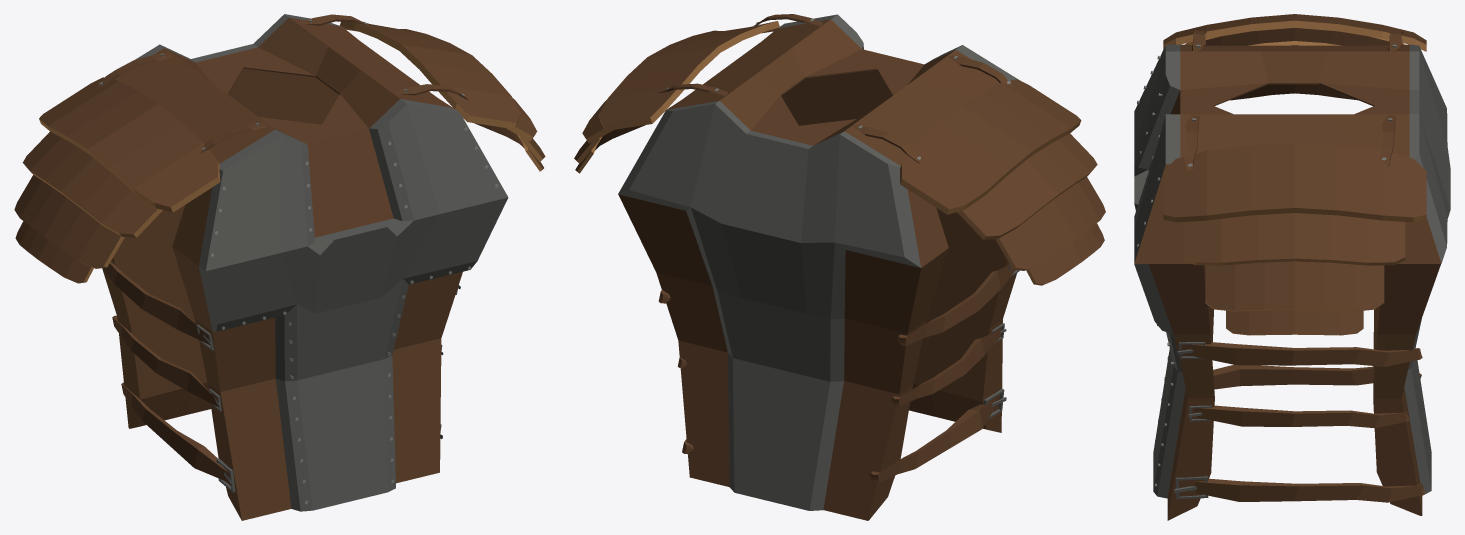
The model's file is peto de cuero.fbx.
The picture shows the model from 3 angles, left to right: view 1: azimuth 30°, elevation 25°; view 2: azimuth 150°, elevation 25°; view 3: azimuth 270°, elevation 25°; orthographic projection. The views are drawn at different scales.
Parts seen in each view (by area): view 1: Torso; view 2: Torso; view 3: Torso.
Part boxes in pixels (x1=…): Torso: x1=14, y1=14, x2=545, y2=520; Torso: x1=574, y1=14, x2=1105, y2=520; Torso: x1=1134, y1=14, x2=1450, y2=520.
Bounding box in the file's own units: 93.23 × 69.77 × 51.1.
